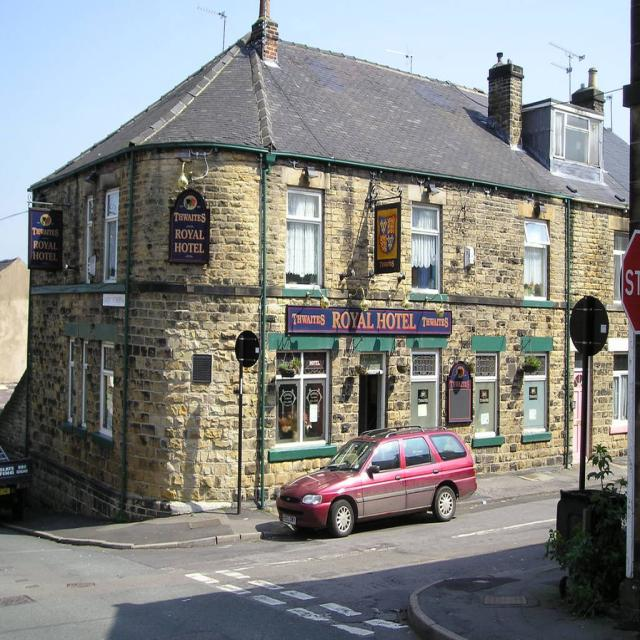car: (270, 427, 484, 541)
